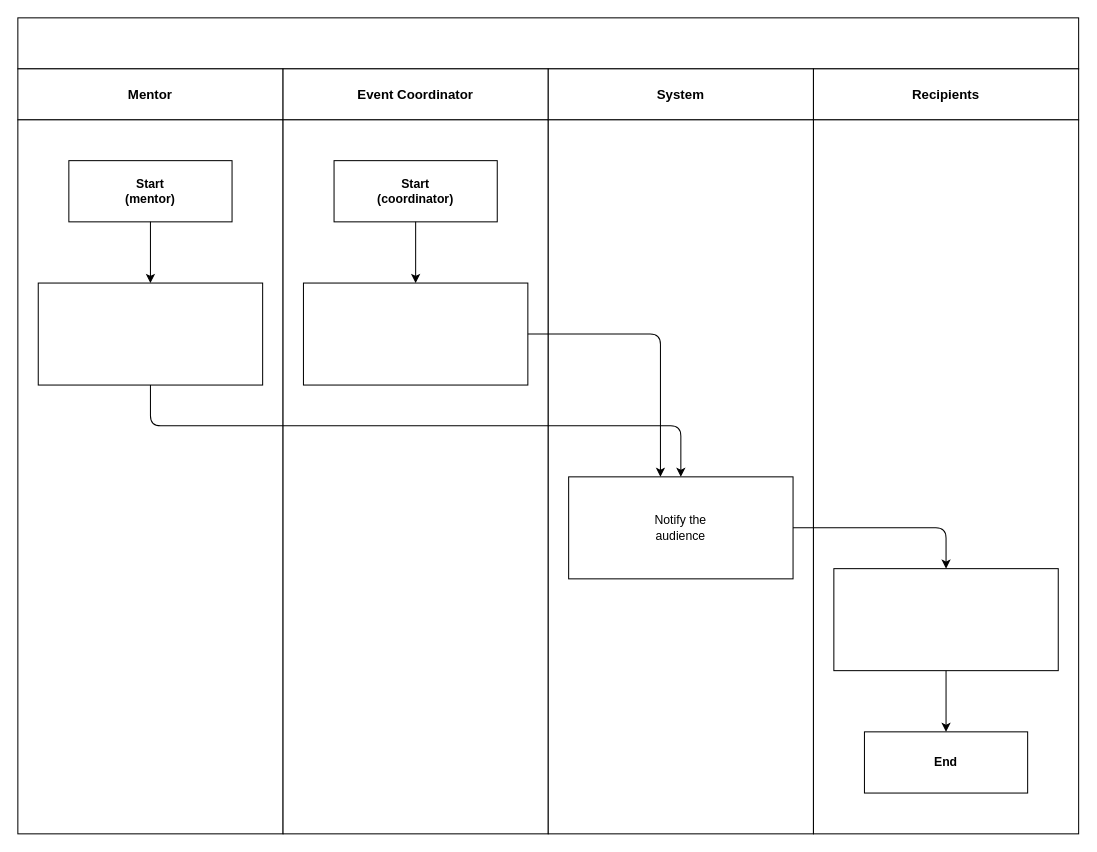
Some shapes in this 1097 by 852 pixel diagram are drawn without their labels. Here are the shapes that lost their labels. From the top down, the centre of each, then its label:
point 548,43: Announcements
point 150,333: Post an announcement to teams in the track
point 415,333: Post an announcement to the chosen audience
point 945,619: Recipients read the announcement
